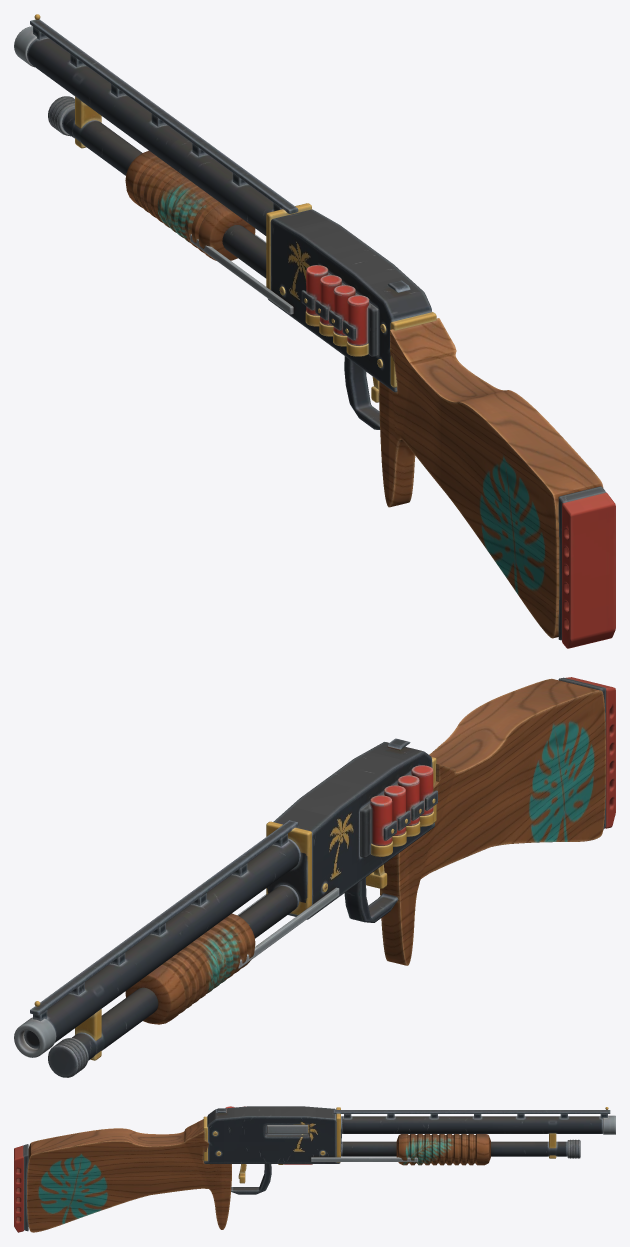
File: shotgun.glb
3 renders of one model, top to bottom at view 1: azimuth 30°, elevation 25°; view 2: azimuth 150°, elevation 25°; view 3: azimuth 270°, elevation 25°, orthographic. The views are drawn at different scales.
Visible parts, largest first — view 1: shotgun_body, shotgun_pump_mesh; view 2: shotgun_body, shotgun_pump_mesh; view 3: shotgun_body, shotgun_pump_mesh.
Boxes of the visible parts, x1,y1,x2,y2 form: shotgun_body: (14,14,615,648); shotgun_pump_mesh: (125,150,293,314); shotgun_body: (14,677,615,1077); shotgun_pump_mesh: (125,887,339,1024); shotgun_body: (14,1106,615,1232); shotgun_pump_mesh: (311,1134,490,1165).
Size of the model in its own units: 0.077 by 0.2366 by 1.07.
Materials: 1 (1 with a texture image).
